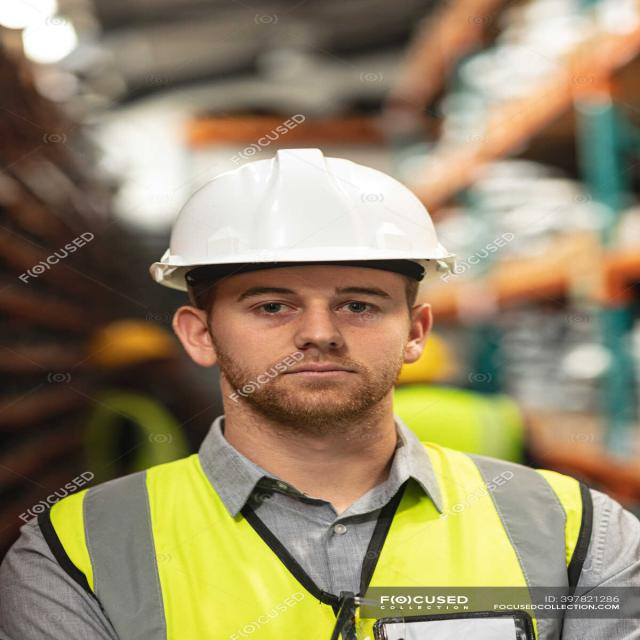helmet: (149, 142, 450, 273)
no-goggles: (192, 280, 429, 335)
vest: (64, 437, 555, 639)
